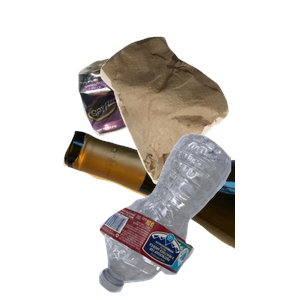glass: (60, 128, 300, 300)
metal: (75, 56, 198, 185)
plastic: (96, 131, 300, 300)
trash: (98, 34, 300, 211)
